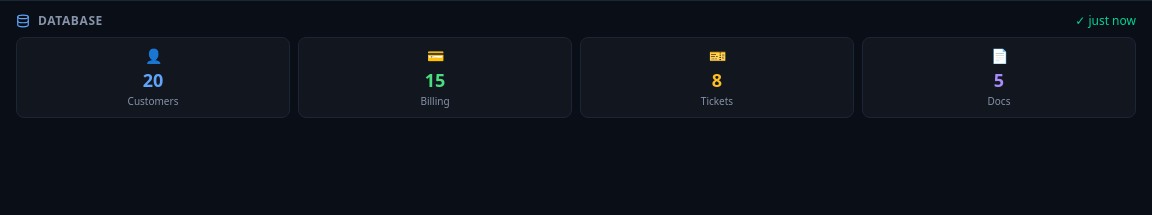
Test: DatabaseStatus › switches expanded table when a different card is clicked
The width and height of the screenshot is (1152, 215).
Click the text "Customers" at (153, 101), box [128, 94, 178, 108]
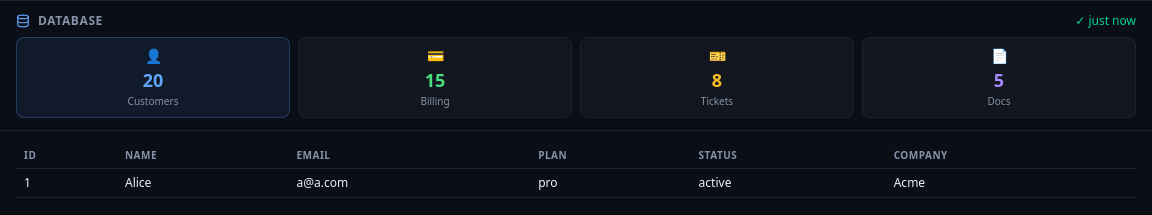
Expected: the text "Alice" is shown, [117, 169, 288, 198]
Click the text "Billing" at (435, 101), box [420, 94, 450, 108]
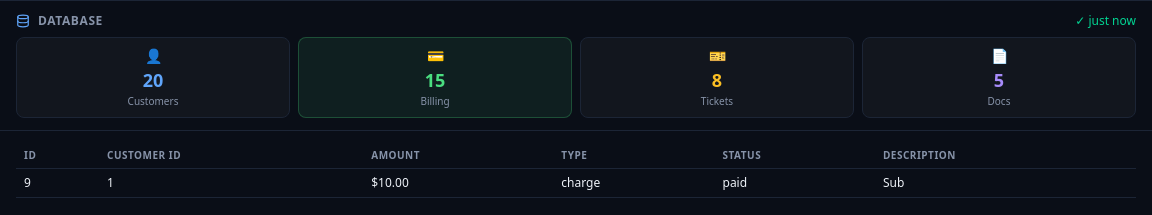
Expected: the text "Alice" is gone
